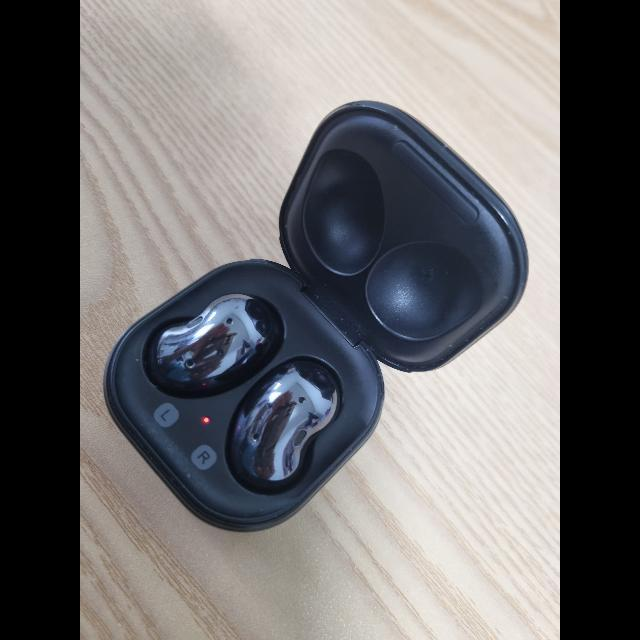buds_live: (102, 97, 530, 533)
